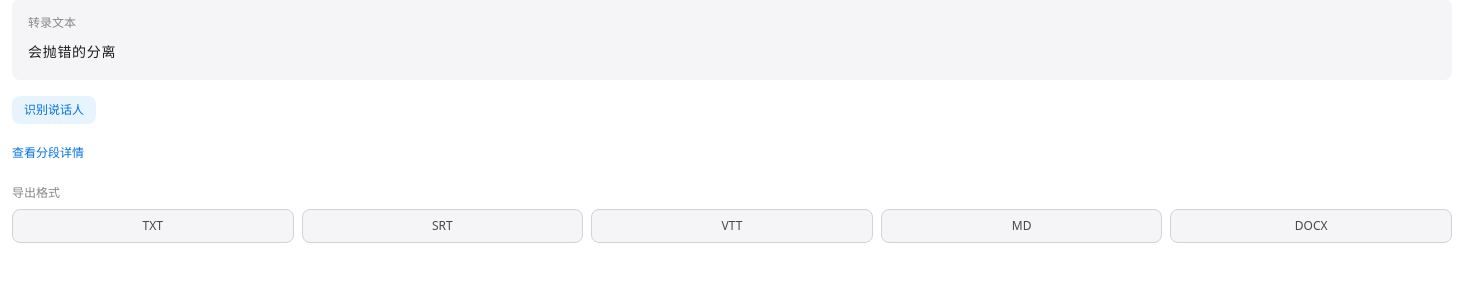
TranscriptionResult — speaker diarization › shows the thrown error message when diarizeAudio rejects
The image size is (1464, 292).
What coordinates should you click on to do the following:
click the button "识别说话人"
I would click on:
 (54, 110)
Its box is [12,96,96,124].
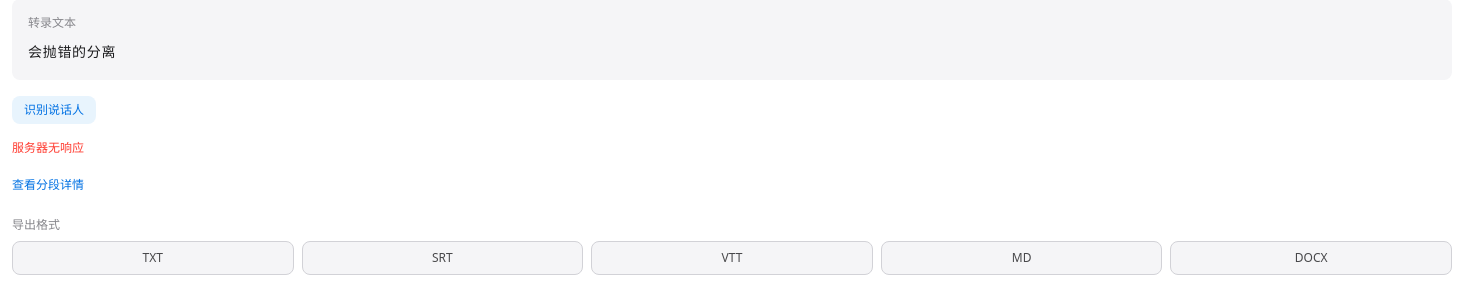
expect the text "服务器无响应" is shown: met, box [12,139,84,156]
